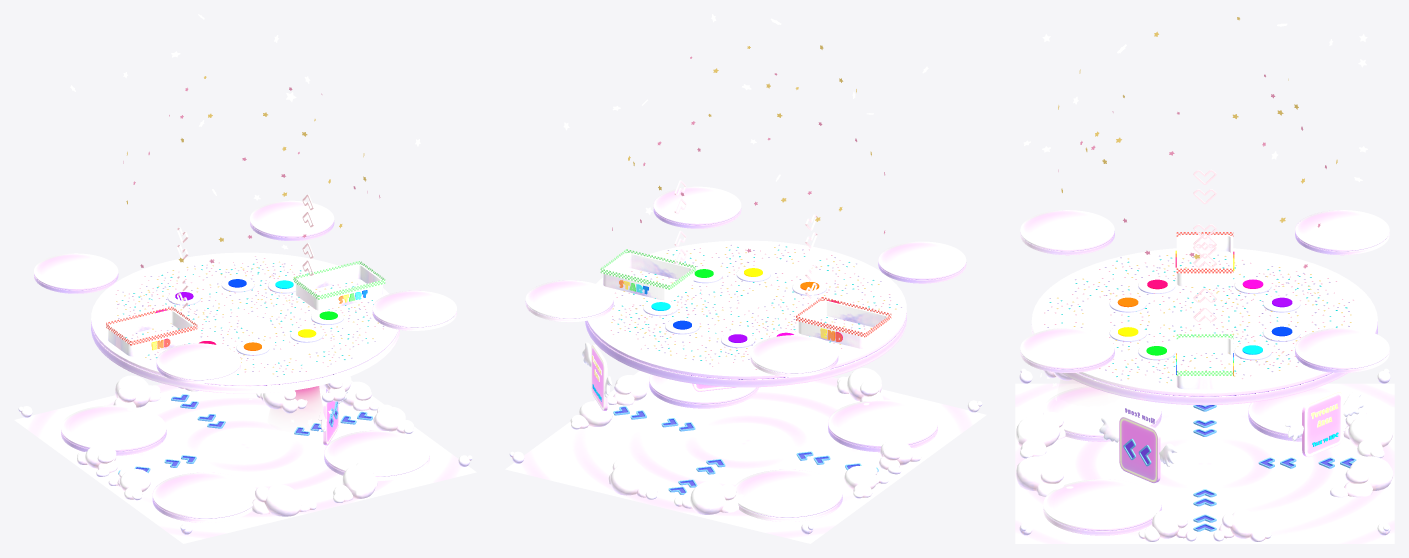
The picture shows the model from 3 angles, left to right: view 1: azimuth 30°, elevation 25°; view 2: azimuth 150°, elevation 25°; view 3: azimuth 270°, elevation 25°; orthographic projection. The views are drawn at different scales.
Parts seen in each view (by area): view 1: BakedStand.008, LP, BakedStand.006, BakedStand.007, Plane.003, CloudB.009, CloudB.008, Bases, stars.011, CloudB.007, arrow.003, GameStars (+1 smaller); view 2: LP, BakedStand.008, BakedStand.007, BakedStand.006, Plane.003, CloudB.009, CloudB.008, Bases, stars.011, arrow.003, arrow.005, GroundPlane.006 (+1 smaller); view 3: LP, BakedStand.008, BakedStand.007, BakedStand.006, CloudB.009, Plane.003, Bases, CloudB.008, GroundPlane.004, GroundPlane.006, stars.011, arrow.003 (+5 smaller).
Boxes of the visible parts, x1,y1,x2,y2 form: BakedStand.008: (91, 252, 399, 393); LP: (14, 380, 476, 543); BakedStand.006: (61, 405, 429, 522); BakedStand.007: (34, 200, 456, 383); Plane.003: (106, 261, 385, 356); CloudB.009: (113, 375, 377, 516); CloudB.008: (77, 381, 413, 500); Bases: (147, 277, 343, 355); stars.011: (115, 256, 383, 376); CloudB.007: (256, 376, 351, 413); arrow.003: (118, 394, 372, 474); GameStars: (70, 14, 420, 267); LP: (505, 371, 986, 543); BakedStand.008: (585, 240, 906, 387); BakedStand.007: (525, 186, 966, 376); BakedStand.006: (649, 374, 937, 521); Plane.003: (600, 249, 891, 348); CloudB.009: (608, 368, 883, 514); CloudB.008: (570, 375, 921, 498); Bases: (643, 266, 848, 347); stars.011: (610, 244, 901, 369); arrow.003: (613, 406, 878, 494); arrow.005: (674, 180, 817, 298); GroundPlane.006: (591, 344, 607, 410); LP: (1015, 383, 1394, 543); BakedStand.008: (1031, 248, 1377, 405); BakedStand.007: (1020, 210, 1389, 372); BakedStand.006: (1043, 386, 1366, 535); CloudB.009: (1016, 412, 1393, 497); Plane.003: (1176, 232, 1233, 389); Bases: (1109, 277, 1300, 360); CloudB.008: (1138, 509, 1271, 541); GroundPlane.004: (1119, 416, 1160, 482); GroundPlane.006: (1302, 390, 1343, 457); stars.011: (1044, 254, 1353, 383); arrow.003: (1193, 405, 1356, 531).
Size of what is drawn, in the model's own units: 64 by 80.28 by 64.
Materials: 20 (11 with a texture image).
